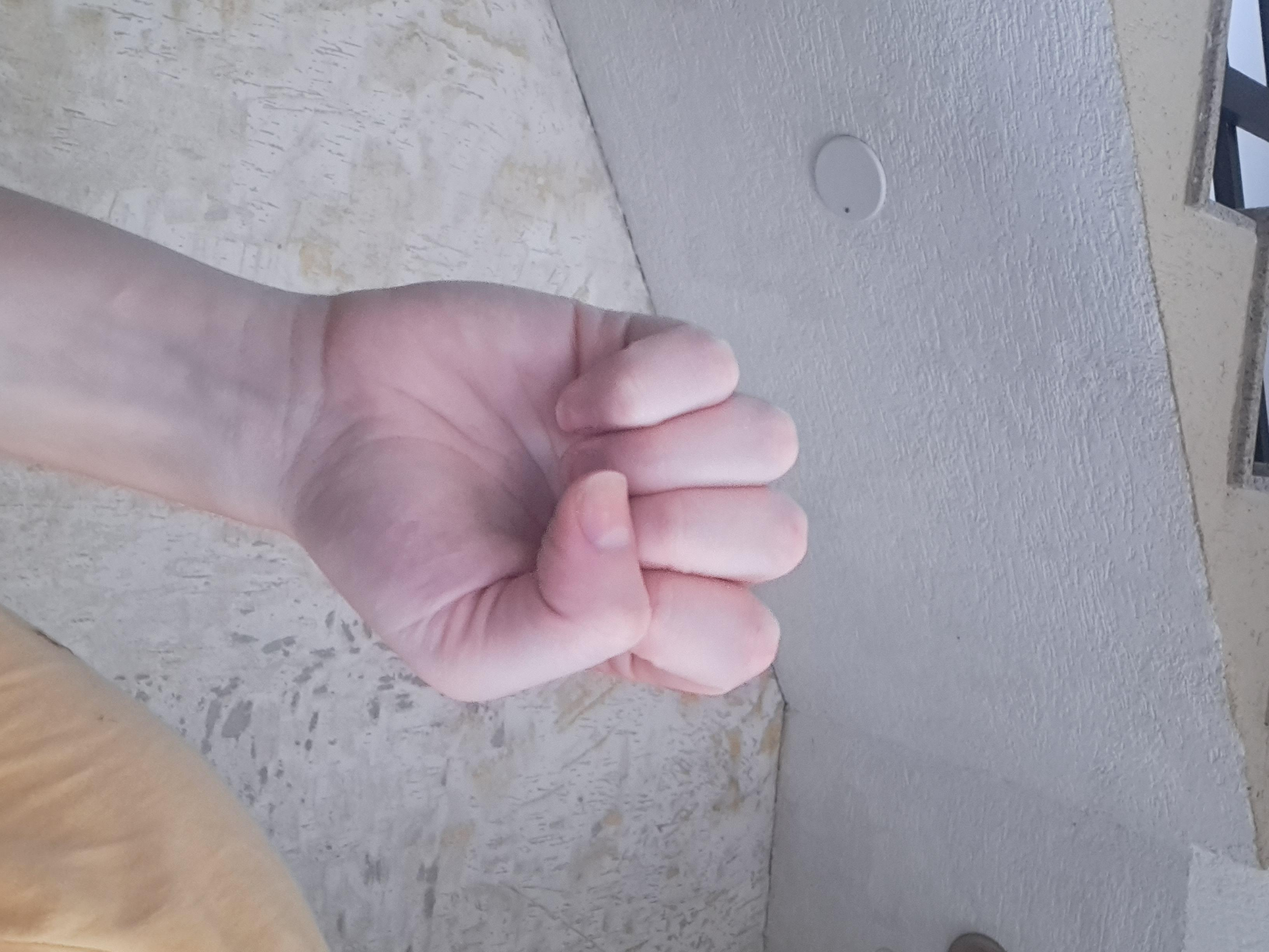S: (347, 335, 954, 747)
